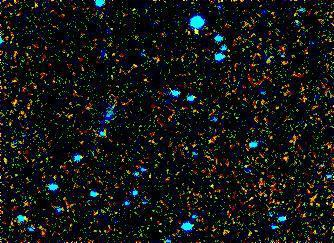star: (180, 16, 210, 46)
